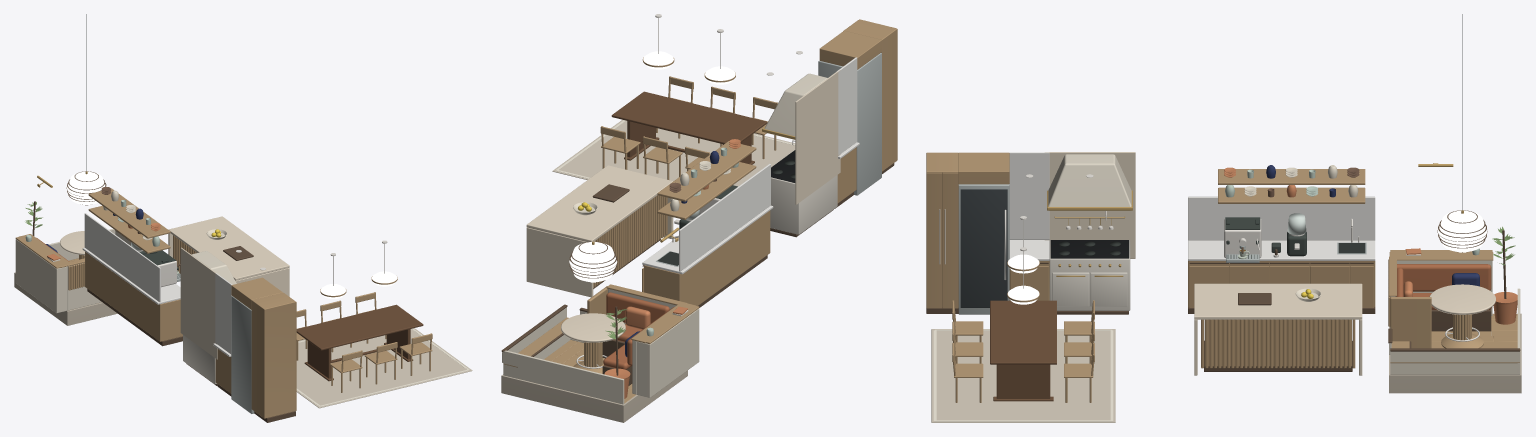
File: room-kitchen.glb
3 renders of one model, left to right at view 1: azimuth 30°, elevation 25°; view 2: azimuth 150°, elevation 25°; view 3: azimuth 270°, elevation 25°, orthographic. The views are drawn at different scales.
Visible parts, largest first — view 1: kitchen__pale oak, kitchen__honed travertine, kitchen__oatmeal wool textile, kitchen__milky veined marble, kitchen_placeholder_dining-table, kitchen__chalk limestone, kitchen_placeholder_kitchen-glass-fridge, kitchen__dining lantern paper, kitchen__honey ash, kitchen__warm cut stone, kitchen_placeholder_kitchen-range, kitchen_placeholder_dining-chair-2 (+5 smaller); view 2: kitchen__pale oak, kitchen__honed travertine, kitchen__chalk limestone, kitchen__milky veined marble, kitchen_placeholder_dining-table, kitchen__oatmeal wool textile, kitchen_placeholder_kitchen-glass-fridge, kitchen_placeholder_kitchen-range, kitchen__warm cut stone, kitchen_placeholder_nook-banquette, kitchen__dining lantern paper, kitchen__honey ash (+7 smaller); view 3: kitchen__pale oak, kitchen__milky veined marble, kitchen__honed travertine, kitchen__oatmeal wool textile, kitchen_placeholder_kitchen-glass-fridge, kitchen_placeholder_dining-table, kitchen_placeholder_kitchen-range, kitchen_placeholder_kitchen-range-hood, kitchen__chalk limestone, kitchen_placeholder_nook-banquette, kitchen__honey ash, kitchen__warm cut stone (+10 smaller).
Part boxes in pixels (<box>): kitchen__pale oak: <box>15,188,397,418</box>; kitchen__honed travertine: <box>60,216,289,359</box>; kitchen__oatmeal wool textile: <box>296,328,472,408</box>; kitchen__milky veined marble: <box>82,213,232,356</box>; kitchen_placeholder_dining-table: <box>296,304,423,381</box>; kitchen__chalk limestone: <box>15,229,130,313</box>; kitchen_placeholder_kitchen-glass-fridge: <box>231,296,254,413</box>; kitchen__dining lantern paper: <box>67,171,397,298</box>; kitchen__honey ash: <box>32,171,295,422</box>; kitchen__warm cut stone: <box>14,272,117,325</box>; kitchen_placeholder_kitchen-range: <box>183,335,217,386</box>; kitchen_placeholder_dining-chair-2: <box>364,342,397,384</box>; kitchen__pale oak: <box>503,19,897,403</box>; kitchen__honed travertine: <box>526,70,840,342</box>; kitchen__chalk limestone: <box>502,289,699,404</box>; kitchen__milky veined marble: <box>642,57,859,274</box>; kitchen_placeholder_dining-table: <box>611,91,767,164</box>; kitchen__oatmeal wool textile: <box>552,119,795,186</box>; kitchen_placeholder_kitchen-glass-fridge: <box>818,53,881,195</box>; kitchen_placeholder_kitchen-range: <box>770,150,837,237</box>; kitchen__warm cut stone: <box>501,370,687,422</box>; kitchen_placeholder_nook-banquette: <box>602,292,673,385</box>; kitchen__dining lantern paper: <box>569,51,735,282</box>; kitchen__honey ash: <box>501,163,894,375</box>; kitchen__pale oak: <box>926,152,1519,368</box>; kitchen__milky veined marble: <box>1009,152,1375,260</box>; kitchen__honed travertine: <box>1045,152,1495,375</box>; kitchen__oatmeal wool textile: <box>931,329,1115,422</box>; kitchen_placeholder_kitchen-glass-fridge: <box>958,184,1009,314</box>; kitchen_placeholder_dining-table: <box>990,300,1056,401</box>; kitchen_placeholder_kitchen-range: <box>1049,240,1130,314</box>; kitchen_placeholder_kitchen-range-hood: <box>1047,154,1132,210</box>; kitchen__chalk limestone: <box>1389,260,1520,374</box>; kitchen_placeholder_nook-banquette: <box>1396,264,1491,331</box>; kitchen__honey ash: <box>926,210,1520,371</box>; kitchen__warm cut stone: <box>1389,313,1521,393</box>.
Size of the model in its own units: 4.99 by 5.72 by 8.88.
